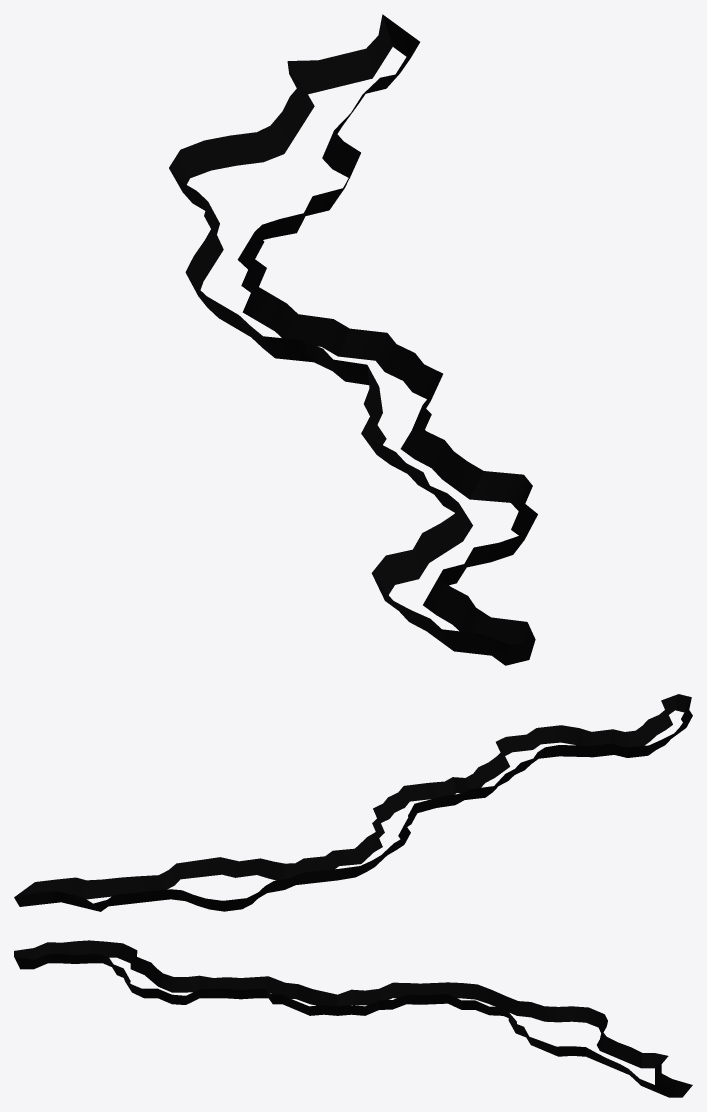
File: mask.obj
3 views of the same model, one above another, from view 1: azimuth 30°, elevation 25°; view 2: azimuth 150°, elevation 25°; view 3: azimuth 270°, elevation 25° (orthographic). The views are drawn at different scales.
Visible parts, largest first — view 1: mask; view 2: mask; view 3: mask.
Boxes of the visible parts, x1,y1,x2,y2 form: mask: (169,14,537,665); mask: (14,694,692,911); mask: (14,940,692,1097).
Bounding box in the file's own units: 397 × 16 × 787.
1 material, 1 textured.
